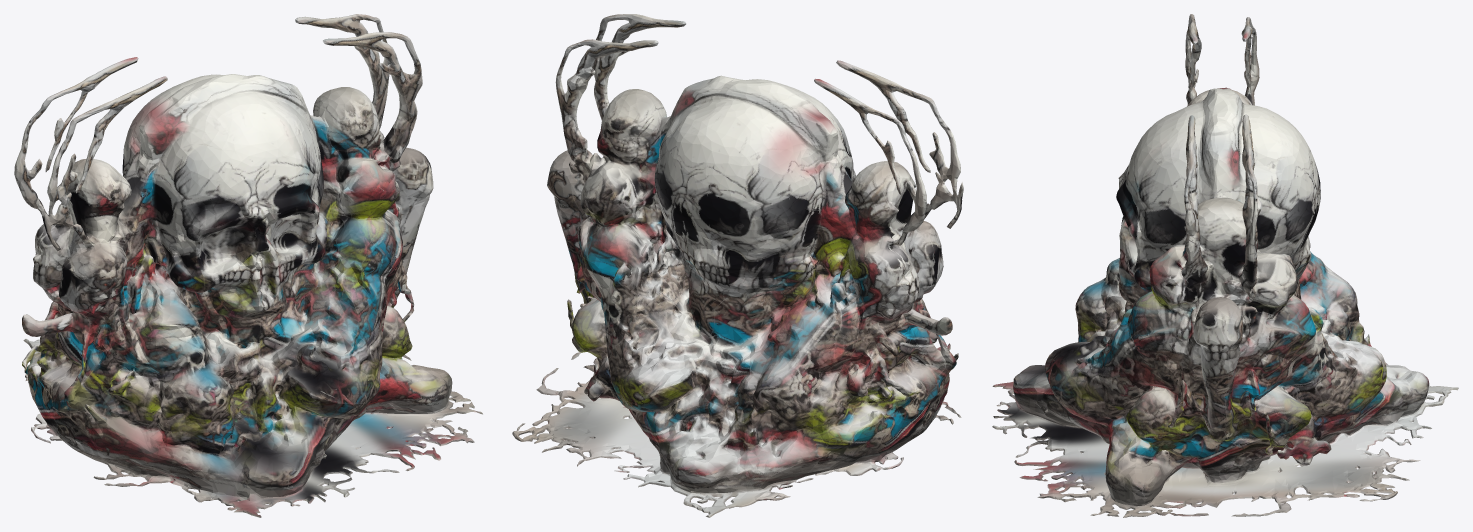
File: bone_heap.glb
3 renders of one model, left to right at view 1: azimuth 30°, elevation 25°; view 2: azimuth 150°, elevation 25°; view 3: azimuth 270°, elevation 25°, orthographic. The views are drawn at different scales.
Visible parts, largest first — view 1: bone_heap; view 2: bone_heap; view 3: bone_heap.
Part boxes in pixels (x1,y1,x2,y2): bone_heap: [14, 14, 482, 517]; bone_heap: [512, 14, 963, 517]; bone_heap: [992, 14, 1458, 517].
Size of the model in its own units: 2.38 by 2.05 by 2.45.
1 material, 1 textured.
